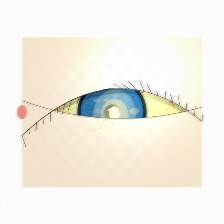corneal_ulcer: (87, 94, 142, 137)
